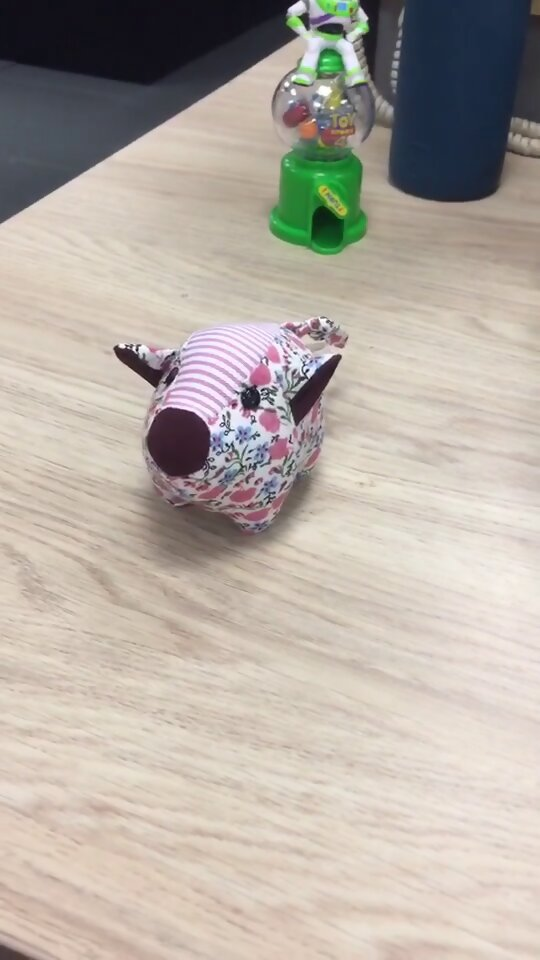pig: (109, 313, 353, 532)
